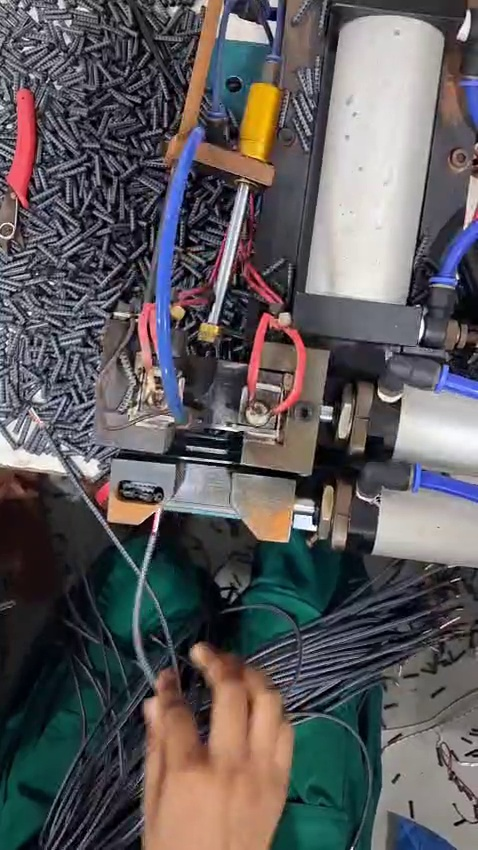machine: (85, 293, 351, 536)
peeled_wire: (129, 496, 187, 597), (14, 393, 74, 467)
